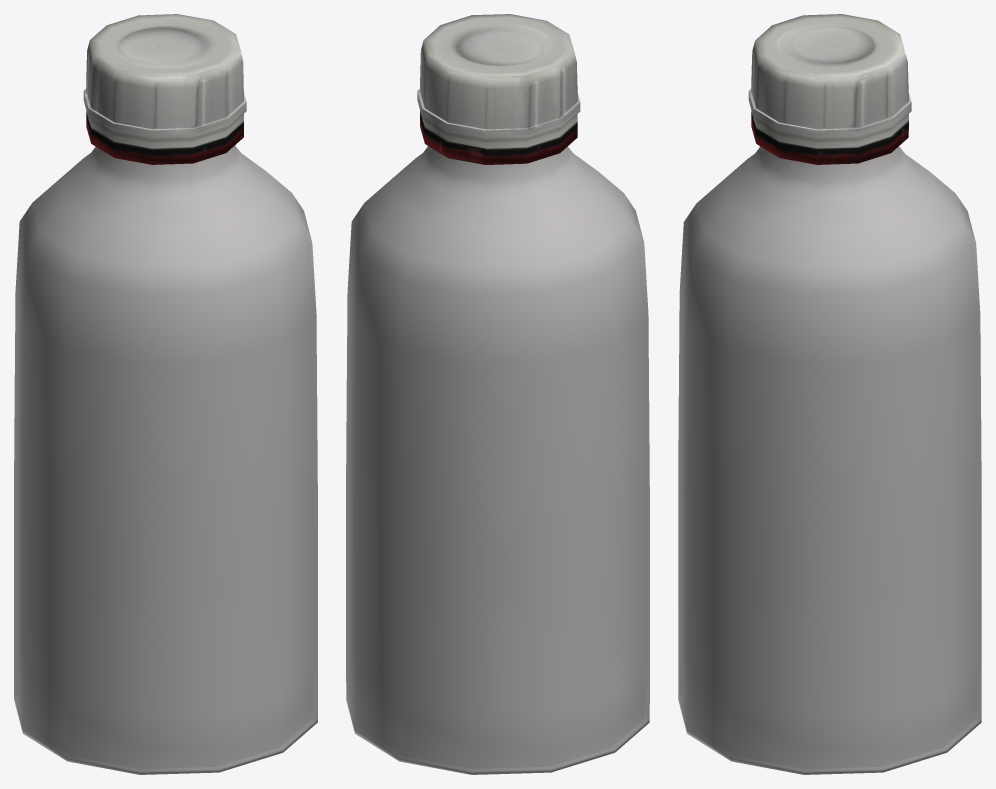
The model's file is Ethanol.fbx.
The picture shows the model from 3 angles, left to right: view 1: azimuth 30°, elevation 25°; view 2: azimuth 150°, elevation 25°; view 3: azimuth 270°, elevation 25°; orthographic projection.
Visible parts, largest first — view 1: Bottle, Cap; view 2: Bottle, Cap; view 3: Bottle, Cap.
Part boxes in pixels (x1,y1,x2,y2): Bottle: (14,145,317,774); Cap: (83,14,246,164); Bottle: (346,146,649,774); Cap: (417,14,580,164); Bottle: (678,146,981,774); Cap: (748,14,911,164).
Size of the model in its own units: 0.0491 by 0.1201 by 0.0496.
2 materials, 1 textured.
